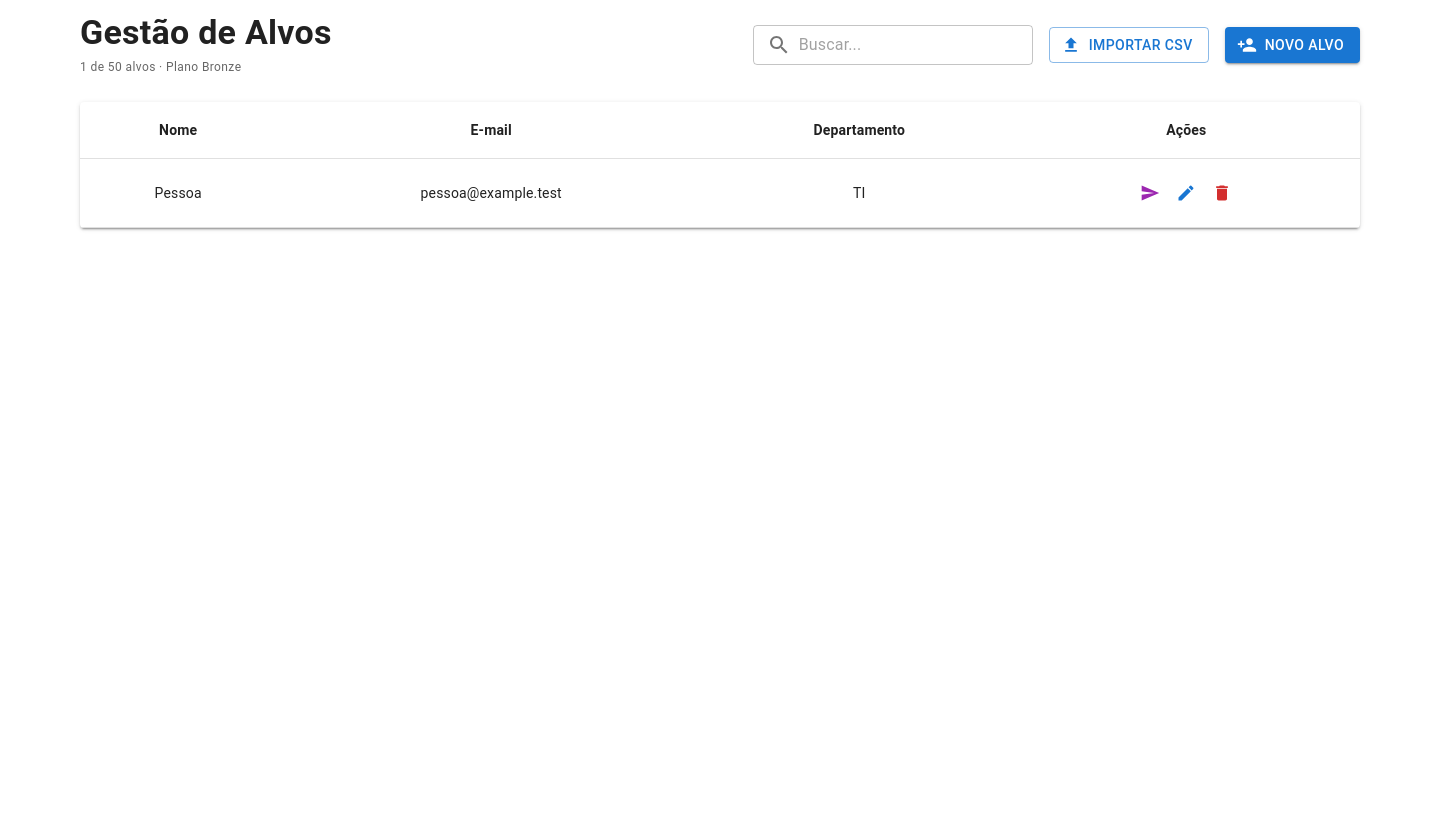
Scenario: Targets — conflitos de integridade › explica o bloqueio de exclusão e mantém o alvo na tabela
The width and height of the screenshot is (1440, 822).
Expected: the text "pessoa@example.test" is shown, [276,158,706,228]
Click the button named "Excluir alvo": (1222, 193) [1204,175,1240,211]
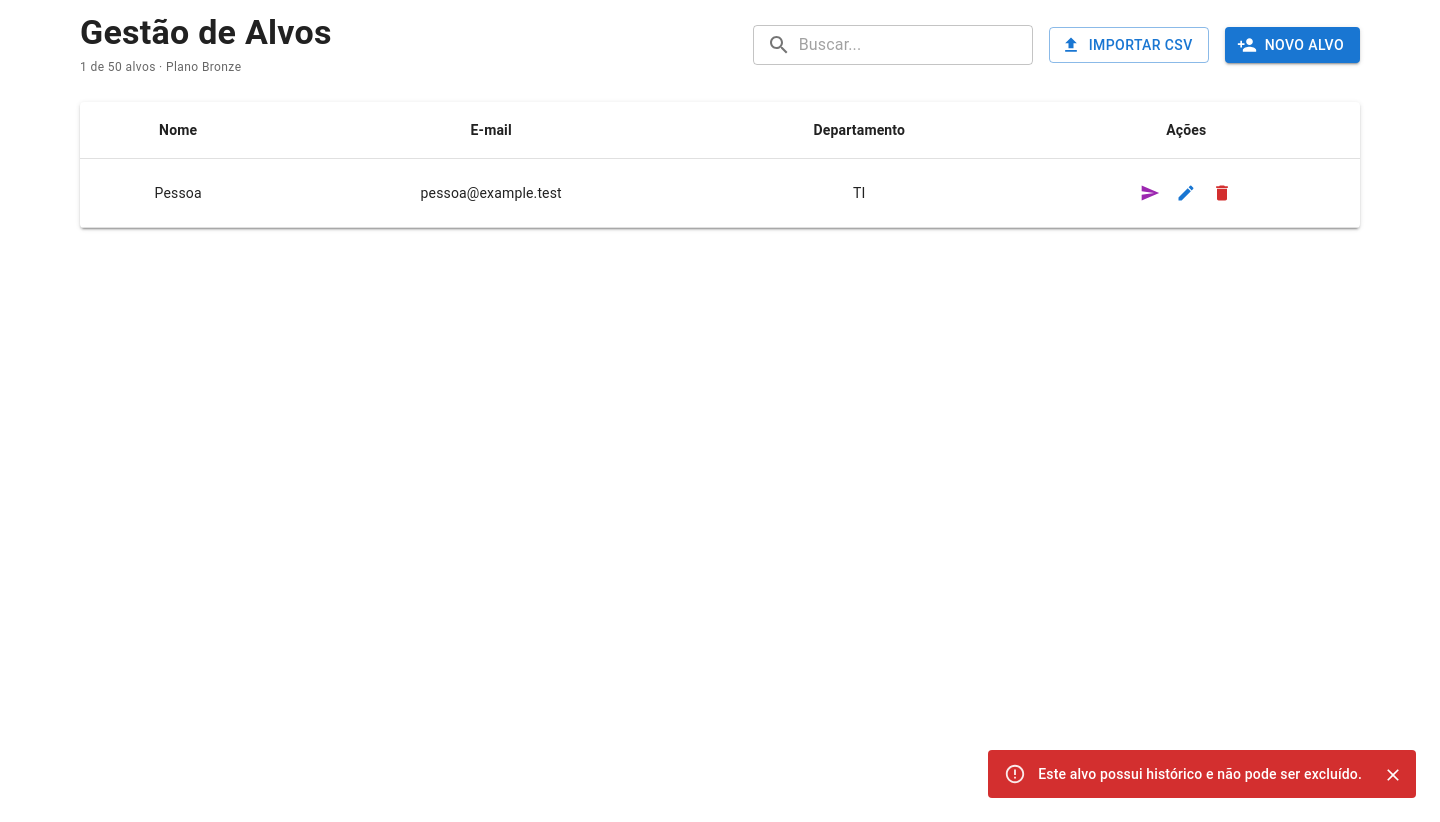
Expected: the text "pessoa@example.test" is shown, [276,158,706,228]
Expected: the text "Este alvo possui histórico e não pode ser excluído." is shown, [1038,766,1362,782]
